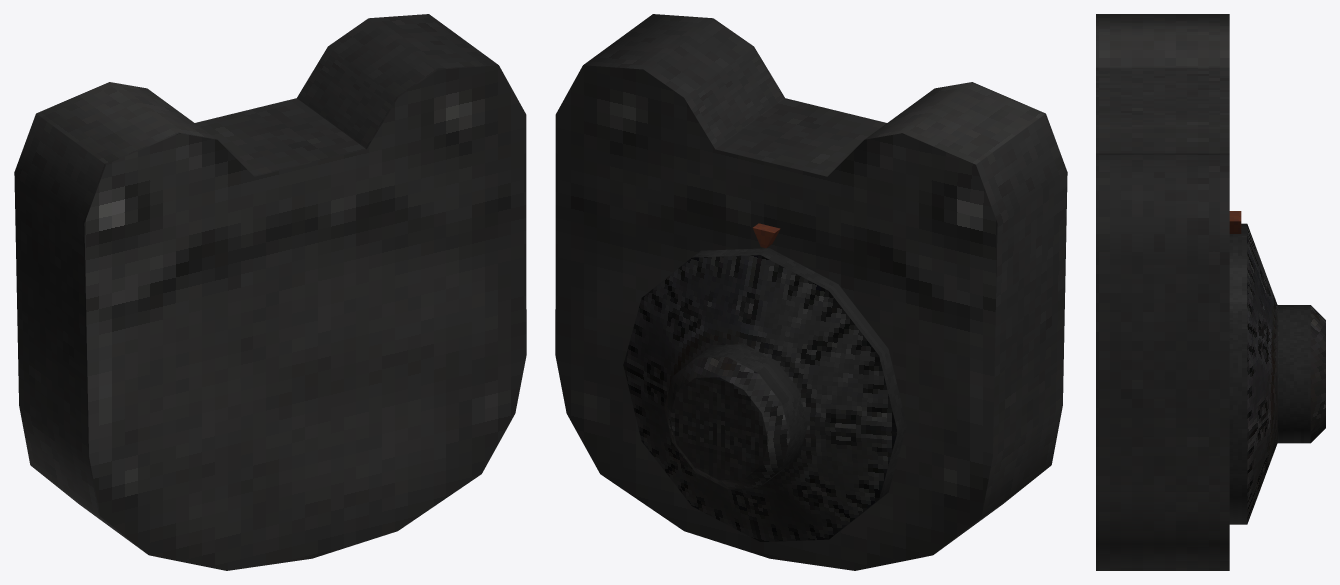
File: padlock_2.glb
3 renders of one model, left to right at view 1: azimuth 30°, elevation 25°; view 2: azimuth 150°, elevation 25°; view 3: azimuth 270°, elevation 25°, orthographic. The views are drawn at different scales.
Parts seen in each view (by area): view 1: padlock_2; view 2: padlock_2, padlock_2_knob; view 3: padlock_2, padlock_2_knob.
Part boxes in pixels (x1=…): padlock_2: x1=14, y1=14, x2=526, y2=570; padlock_2: x1=555, y1=14, x2=1067, y2=570; padlock_2_knob: x1=623, y1=248, x2=906, y2=541; padlock_2: x1=1096, y1=14, x2=1241, y2=570; padlock_2_knob: x1=1229, y1=223, x2=1325, y2=524.
Bounding box in the file's own units: 0.0806 × 0.0798 × 0.0381.
Materials: 1 (1 with a texture image).
